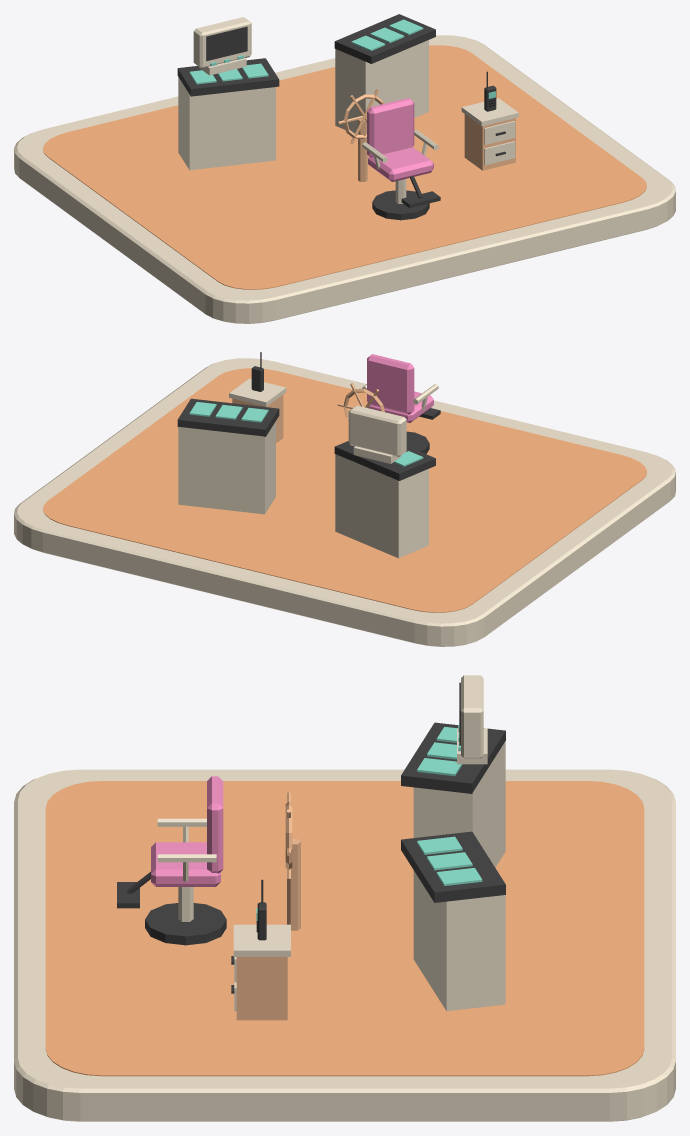
3 views of the same model, one above another, from view 1: azimuth 30°, elevation 25°; view 2: azimuth 150°, elevation 25°; view 3: azimuth 270°, elevation 25° (orthographic). The views are drawn at different scales.
Visible parts, largest first — view 1: COM-02 Floor Surface, COM-01 Rounded Base Direct, Console, Console.001, Back, Panel.001, Panel, Seat, Housing, Body, Base, Readout.006 (+4 smaller); view 2: COM-02 Floor Surface, COM-01 Rounded Base Direct, Console.001, Console, Housing, Back, Panel.001, Panel, Top, Seat, Body; view 3: COM-02 Floor Surface, COM-01 Rounded Base Direct, Console.001, Console, Panel.001, Body, Panel, Base, Seat, Housing, Top, Back (+1 smaller).
Part boxes in pixels (left/top/right/bottom): COM-02 Floor Surface: left=43, top=45, right=646, bottom=289; COM-01 Rounded Base Direct: left=14, top=35, right=675, bottom=323; Console: left=178, top=77, right=275, bottom=170; Console.001: left=335, top=40, right=428, bottom=133; Back: left=367, top=98, right=414, bottom=157; Panel.001: left=334, top=14, right=435, bottom=63; Panel: left=177, top=58, right=279, bottom=96; Seat: left=368, top=147, right=433, bottom=181; Housing: left=193, top=17, right=251, bottom=68; Body: left=464, top=114, right=515, bottom=170; Base: left=372, top=190, right=429, bottom=220; Readout.006: left=206, top=26, right=247, bottom=60; COM-02 Floor Surface: left=43, top=368, right=646, bottom=612; COM-01 Rounded Base Direct: left=14, top=358, right=675, bottom=646; Console.001: left=178, top=421, right=275, bottom=514; Console: left=335, top=454, right=428, bottom=558; Housing: left=348, top=405, right=406, bottom=456; Back: left=367, top=354, right=414, bottom=414; Panel.001: left=177, top=398, right=279, bottom=436; Panel: left=334, top=441, right=435, bottom=480; Top: left=229, top=378, right=286, bottom=406; Seat: left=368, top=391, right=433, bottom=423; Body: left=232, top=395, right=283, bottom=442; COM-02 Floor Surface: left=45, top=781, right=644, bottom=1076; COM-01 Rounded Base Direct: left=14, top=769, right=675, bottom=1121; Console.001: left=413, top=870, right=505, bottom=1011; Console: left=413, top=741, right=505, bottom=867; Panel.001: left=401, top=831, right=505, bottom=902; Body: left=236, top=957, right=287, bottom=1020; Panel: left=401, top=722, right=505, bottom=793; Base: left=145, top=903, right=226, bottom=945; Seat: left=151, top=842, right=220, bottom=886; Housing: left=461, top=675, right=483, bottom=758; Top: left=233, top=924, right=290, bottom=956; Back: left=207, top=776, right=223, bottom=873.
Size of the model in its own units: 6 by 1.88 by 5.2.
Materials: 1 (1 with a texture image).
